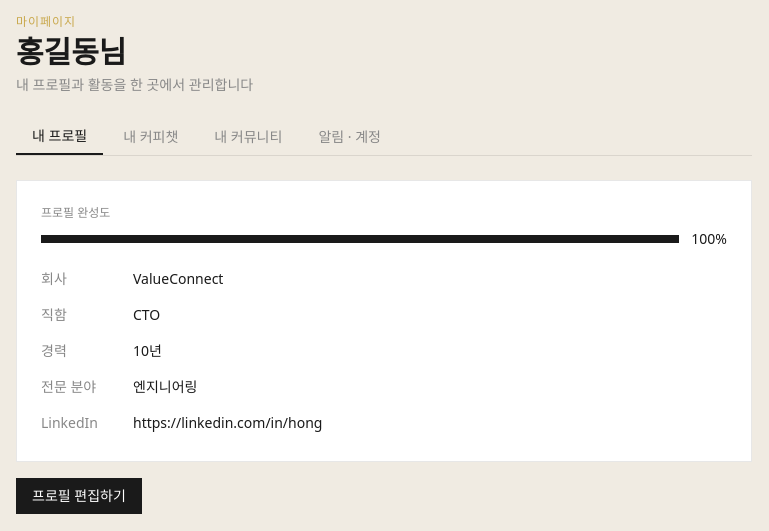
Test: /me MeClient › switches to coffeechat tab and shows filter row
This screenshot has width=769, height=531.
Click the tab with test id "me-tab-coffeechat".
click(151, 137)  # box [107, 119, 194, 155]
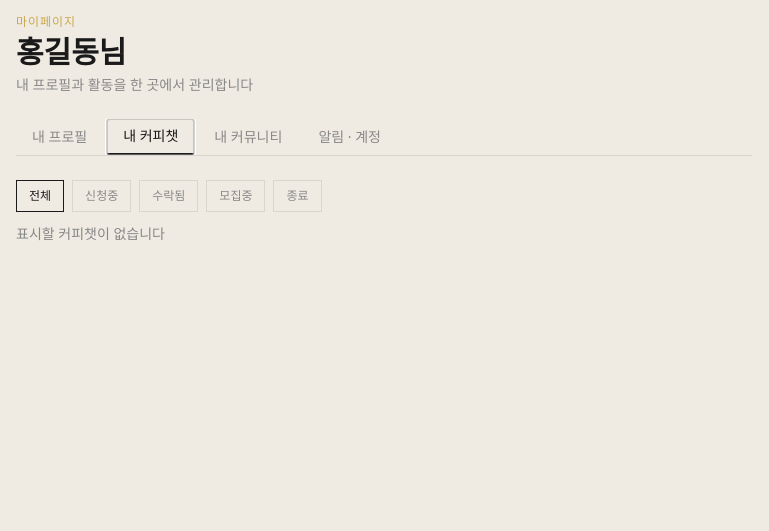
Expected: the panel with test id "me-panel-coffeechat" is shown, [16, 180, 322, 243]
Expected: the element with test id "me-coffeechat-filters" is shown, [16, 180, 322, 212]
